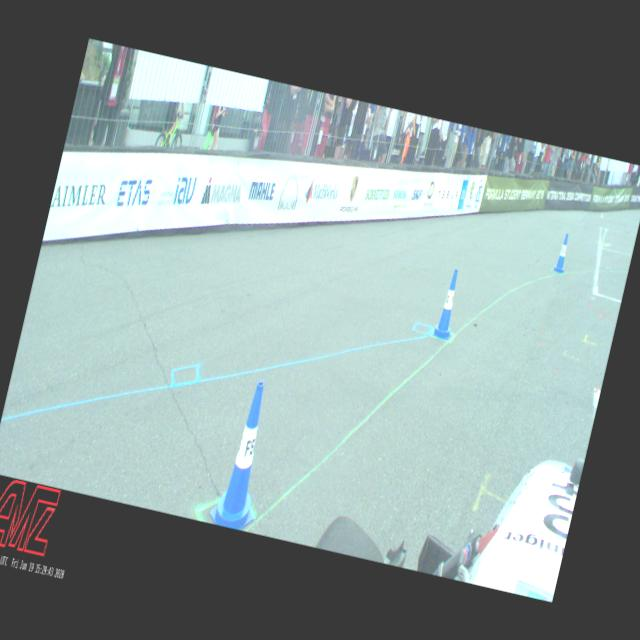blue_cone: (207, 375, 284, 532), (432, 267, 464, 340), (552, 232, 572, 272)
